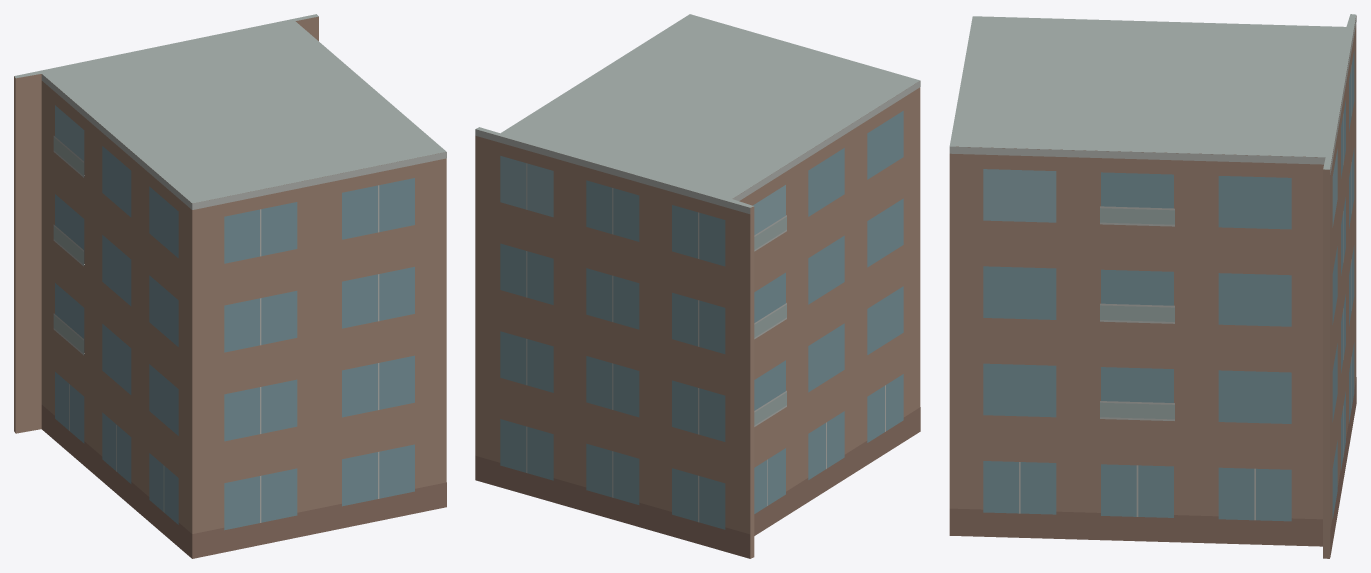
Rendered from survey-upis-32703090.glb.
The picture shows the model from 3 angles, left to right: view 1: azimuth 30°, elevation 25°; view 2: azimuth 150°, elevation 25°; view 3: azimuth 270°, elevation 25°; orthographic projection. The views are drawn at different scales.
Parts seen in each view (by area): view 1: survey-upis-32703090.tmp; view 2: survey-upis-32703090.tmp; view 3: survey-upis-32703090.tmp.
Part boxes in pixels (bbox=[...]): survey-upis-32703090.tmp: bbox=[14, 14, 446, 558]; survey-upis-32703090.tmp: bbox=[475, 14, 920, 558]; survey-upis-32703090.tmp: bbox=[949, 14, 1356, 558].
Bounding box in the file's own units: 11.25 × 13.1 × 12.42.
